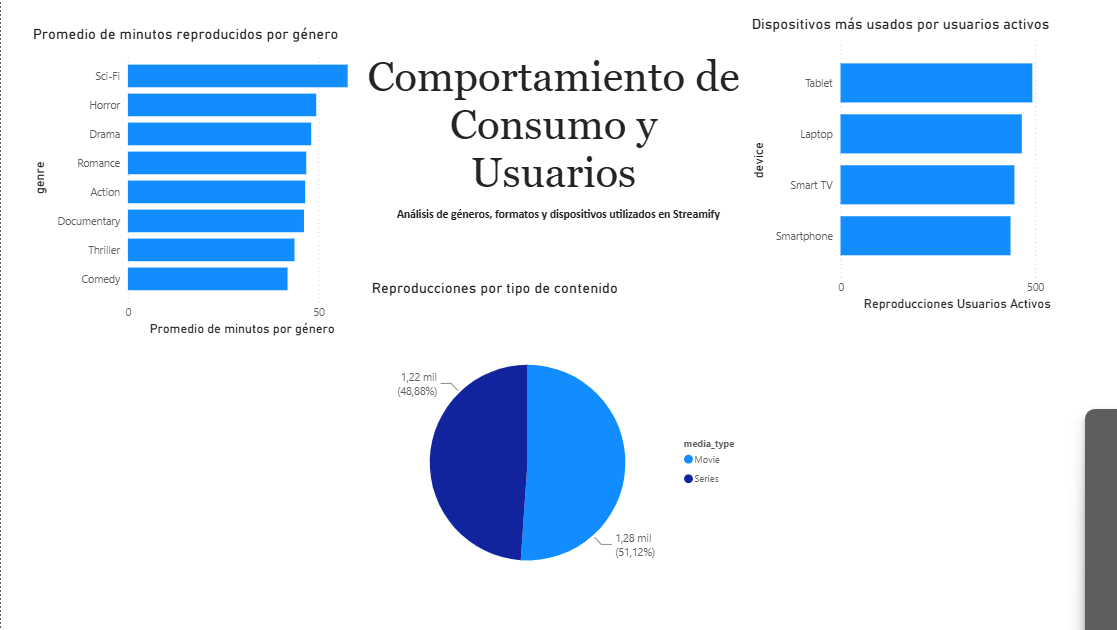

The dashboard page shown, as its layout file describes it:
{"tool":"powerbi","page":{"name":"Consumo y Usuarios","canvas":[1280,720],"ordinal":1},"visuals":[{"type":"clusteredBarChart","title":"Promedio de minutos reproducidos por género","fields":{"Category":["public media.genre"],"Y":["public watch_history.Promedio Minutos"]},"box":[31.4,28.6,387.1,360],"z":0},{"type":"pieChart","title":"Reproducciones por tipo de contenido","fields":{"Category":["public media.media_type"],"Y":["public watch_history.Total Reproducciones"]},"box":[418,318.6,442.9,401.4],"z":1000},{"type":"clusteredBarChart","title":"Dispositivos más usados por usuarios activos","fields":{"Category":["public watch_history.device"],"Y":["public users.Reproducciones Usuarios Activos"]},"box":[852.9,17.1,388.6,342.9],"z":2000},{"type":"textbox","box":[410,55.7,442.9,197.1],"z":2001},{"type":"textbox","box":[447.1,230,385.7,44.3],"z":2002}]}

Visuals, with their boxes in screenshot pixels (x1, y1, x2, y2), scaled from the page's 1280x720 canvas onto the 1117x630 screenshot:
"Promedio de minutos reproducidos por género" clusteredBarChart: [27, 25, 365, 340]
"Reproducciones por tipo de contenido" pieChart: [365, 279, 751, 629]
"Dispositivos más usados por usuarios activos" clusteredBarChart: [744, 15, 1083, 315]
textbox: [358, 49, 744, 221]
textbox: [390, 201, 727, 240]
